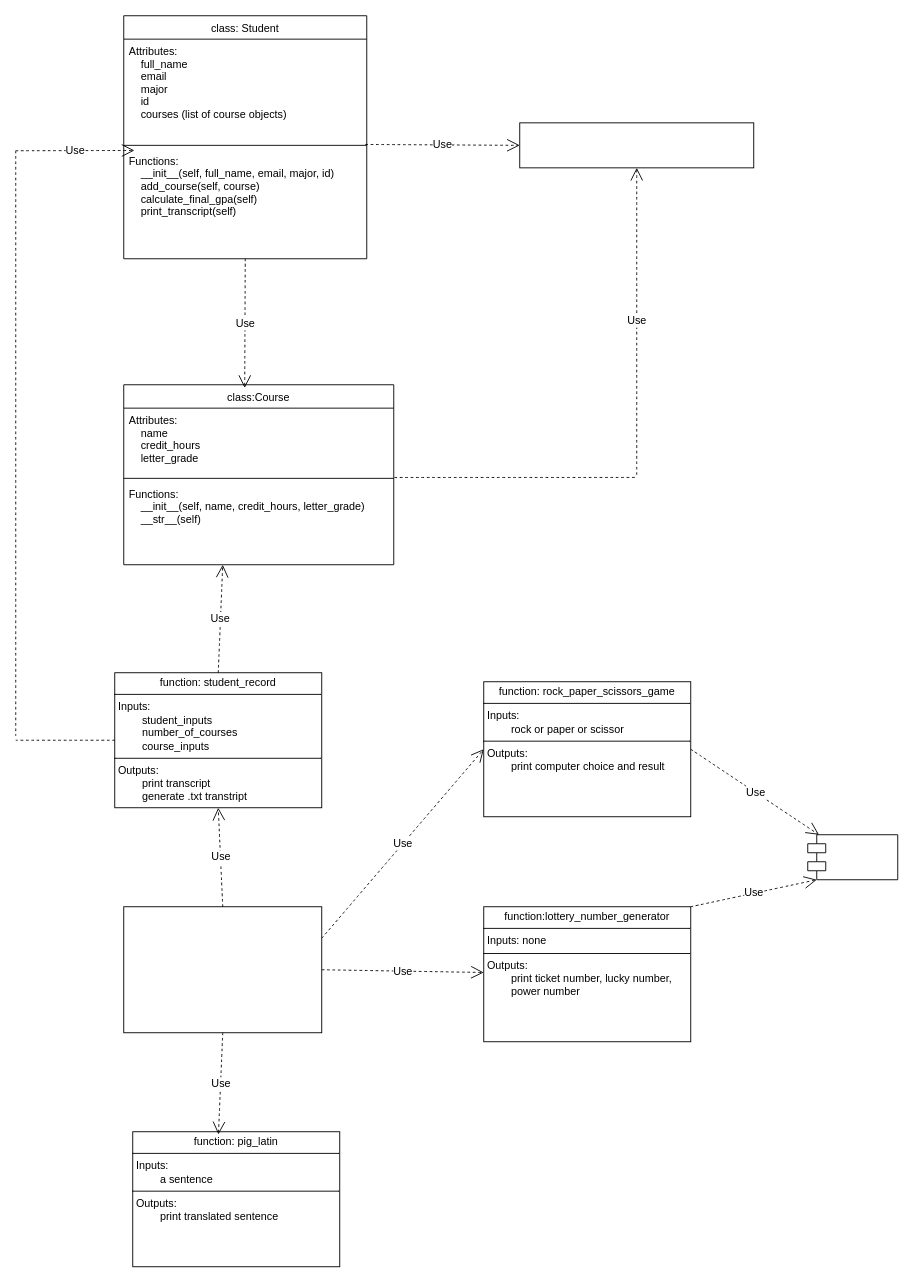
This 914x1283 diagram has some shape labels left out. Here are the shapes that lost their labels. From the top down, the centre of each, then its label:
At (636,145): "dictionary:letter_grade_to_gpa_dictionary".
At (852,857): "module: random".
At (222,969): "function: main".
